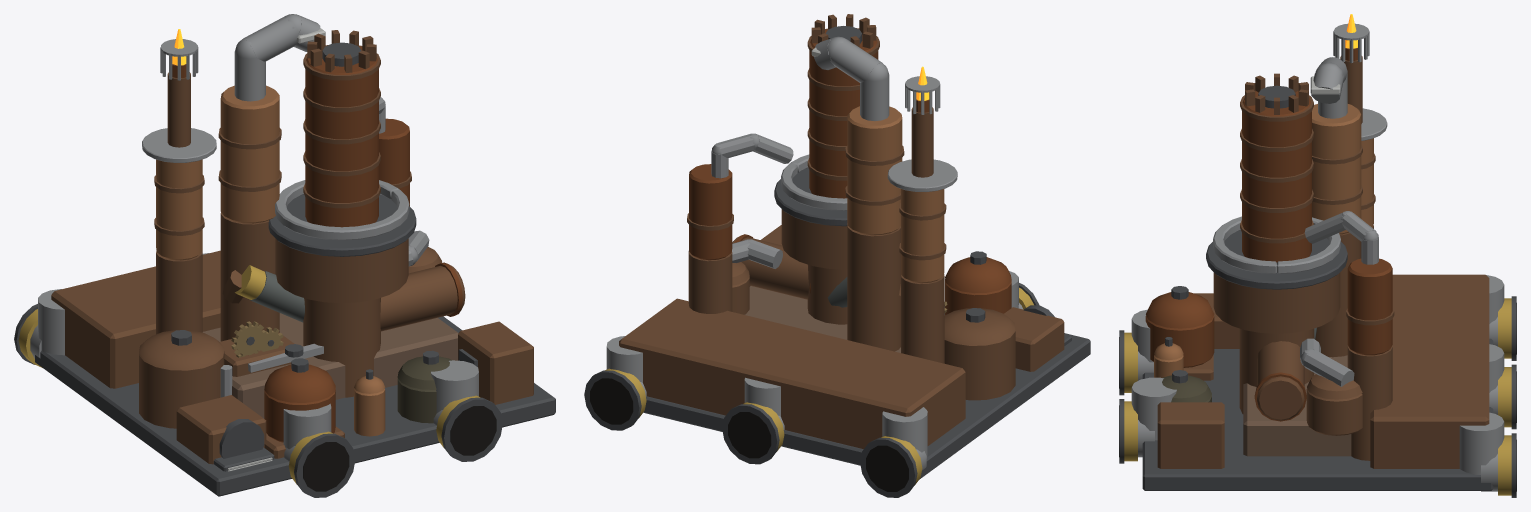
The model's file is oil-refinery.glb.
The picture shows the model from 3 angles, left to right: view 1: azimuth 30°, elevation 25°; view 2: azimuth 150°, elevation 25°; view 3: azimuth 270°, elevation 25°; orthographic projection. The views are drawn at different scales.
Visible parts, largest first — view 1: body, anim_gear_refinery_a, anim_yoke_refinery; view 2: body; view 3: body.
Boxes of the visible parts, x1=… form: body: x1=14, y1=14, x2=555, y2=497; anim_gear_refinery_a: x1=231, y1=321, x2=266, y2=356; anim_yoke_refinery: x1=248, y1=343, x2=323, y2=372; body: x1=584, y1=14, x2=1090, y2=497; body: x1=1119, y1=14, x2=1516, y2=497.
Size of the model in its own units: 4.8 by 4.99 by 4.91.
